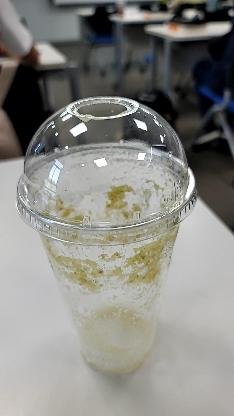Plastic Cup: (15, 89, 198, 399), (14, 94, 198, 244)
